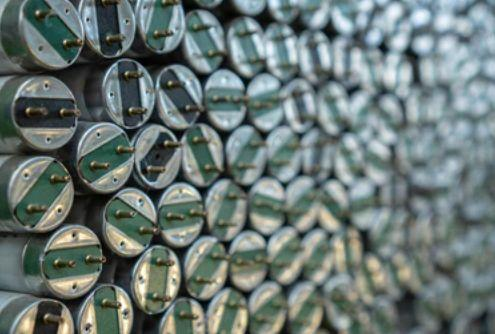light bulb: (0, 70, 82, 154), (0, 0, 84, 73), (1, 154, 73, 232), (35, 224, 103, 299), (71, 121, 136, 194), (102, 186, 160, 257), (101, 59, 156, 130), (130, 245, 183, 315), (0, 234, 57, 298), (130, 123, 183, 191), (78, 1, 137, 60), (153, 64, 204, 132), (129, 0, 186, 58), (156, 182, 205, 248), (0, 291, 75, 334), (182, 235, 231, 300), (181, 9, 228, 75), (75, 284, 135, 333), (266, 225, 313, 287), (288, 178, 338, 235), (180, 123, 224, 187), (225, 15, 268, 79), (203, 69, 246, 132), (224, 124, 267, 186), (206, 178, 249, 240), (226, 230, 269, 291), (244, 71, 286, 133), (320, 279, 367, 334), (274, 77, 316, 137), (261, 123, 303, 182), (245, 176, 286, 235), (259, 22, 300, 81), (295, 29, 337, 85), (409, 152, 461, 197), (314, 80, 353, 138), (246, 281, 289, 333), (204, 286, 250, 334), (284, 281, 325, 334), (343, 177, 382, 226), (378, 51, 414, 95), (370, 172, 409, 210), (458, 75, 493, 117), (322, 0, 363, 32), (265, 0, 306, 25), (229, 0, 269, 18)
